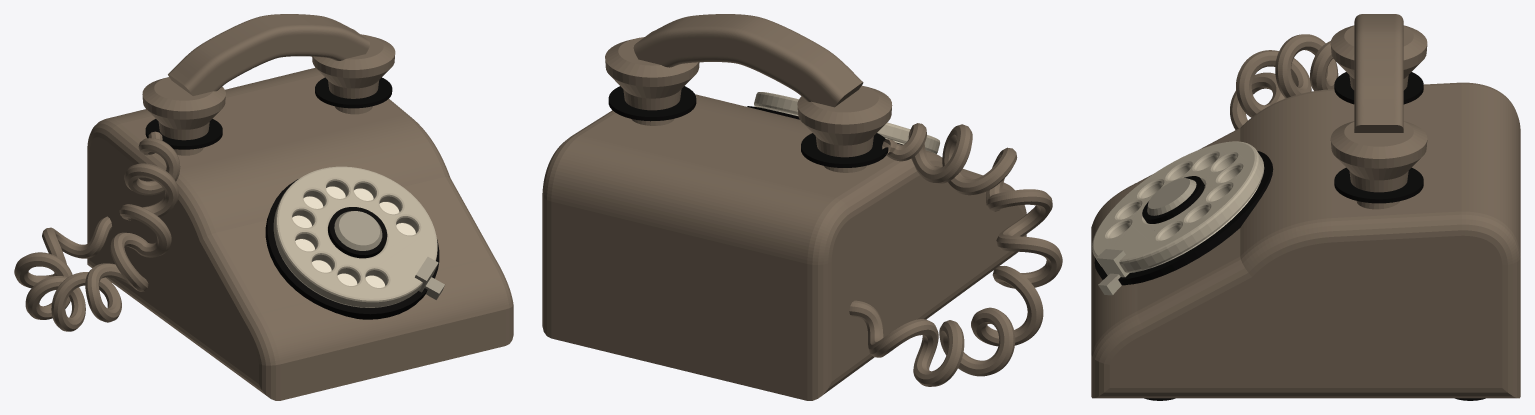
The model's file is RotaryDeskPhone.obj.
The picture shows the model from 3 angles, left to right: view 1: azimuth 30°, elevation 25°; view 2: azimuth 150°, elevation 25°; view 3: azimuth 270°, elevation 25°; orthographic projection. The views are drawn at different scales.
Visible parts, largest first — view 1: RotaryDeskPhone; view 2: RotaryDeskPhone; view 3: RotaryDeskPhone.
Part boxes in pixels (x1=…): RotaryDeskPhone: x1=14, y1=14, x2=513, y2=400; RotaryDeskPhone: x1=542, y1=14, x2=1062, y2=400; RotaryDeskPhone: x1=1091, y1=14, x2=1520, y2=400.
Bounding box in the file's own units: 0.2664 × 0.184 × 0.235.
